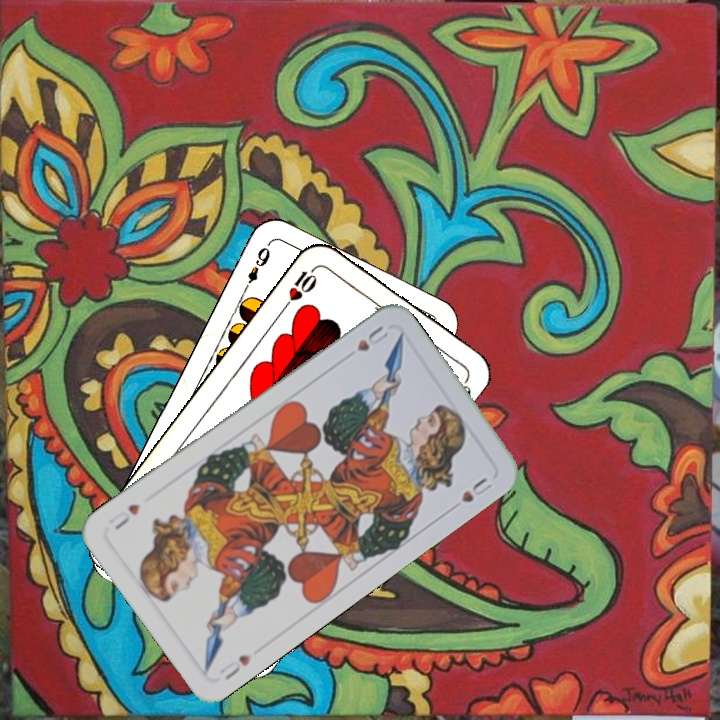E9: (238, 243, 273, 295)
H10: (278, 262, 320, 313)
HU: (352, 321, 391, 354), (215, 650, 254, 683)
